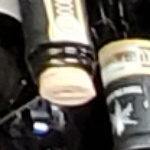bottle: (12, 21, 115, 102)
